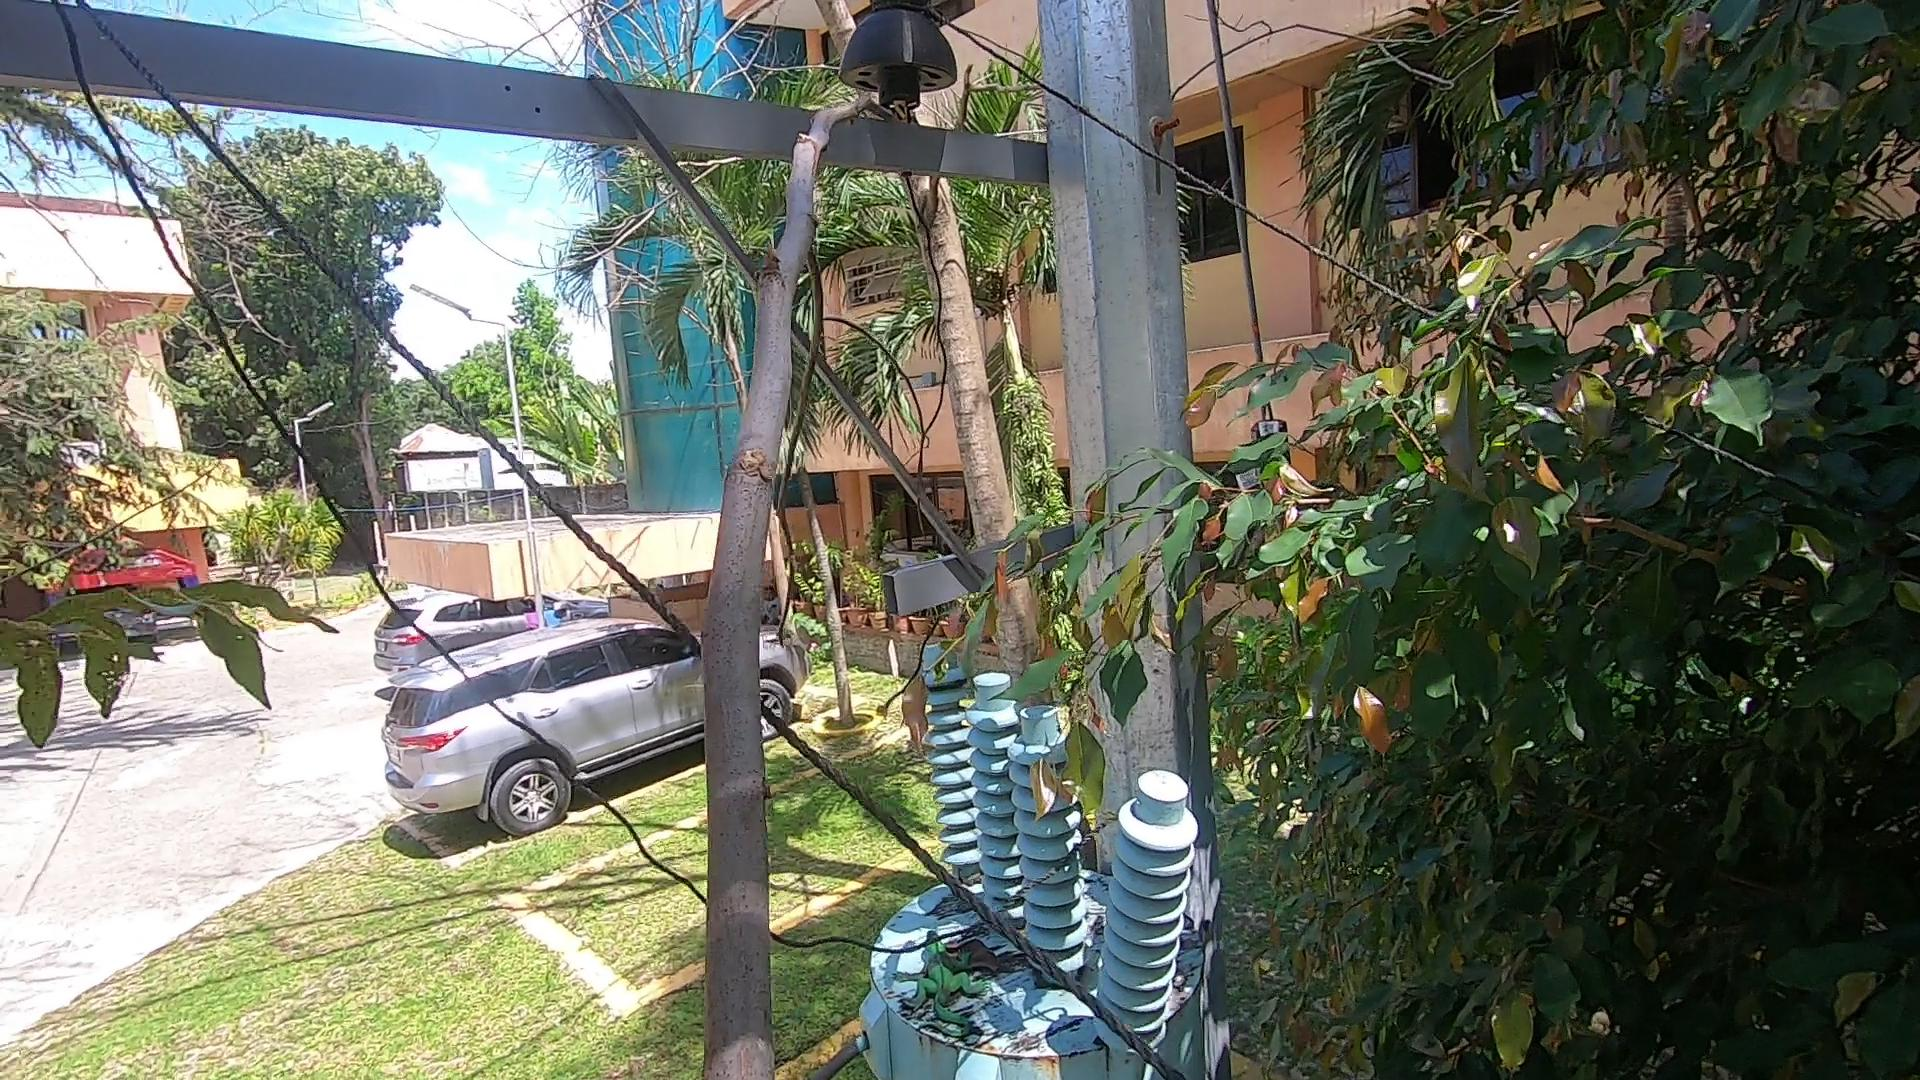branch with leaves: (905, 444, 1224, 845)
leaf: (942, 936, 1036, 976), (942, 868, 1001, 905)
tree branch: (698, 44, 913, 1080)
